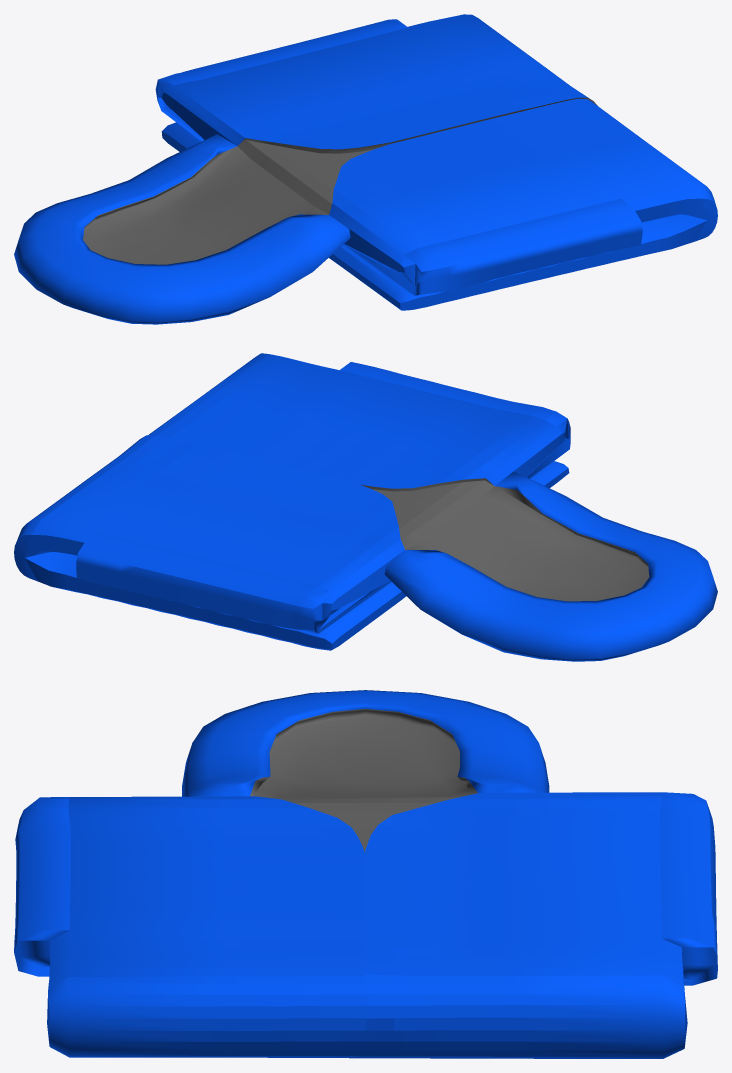
The model's file is jacka.fbx.
3 views of the same model, one above another, from view 1: azimuth 30°, elevation 25°; view 2: azimuth 150°, elevation 25°; view 3: azimuth 270°, elevation 25° (orthographic). The views are drawn at different scales.
Parts seen in each view (by area): view 1: pCube10; view 2: pCube10; view 3: pCube10.
Boxes of the visible parts, <box> form: pCube10: <box>14,14,717,324</box>; pCube10: <box>14,353,717,661</box>; pCube10: <box>14,690,717,1058</box>.
Size of the model in its own units: 10.25 by 1.2 by 8.5.
